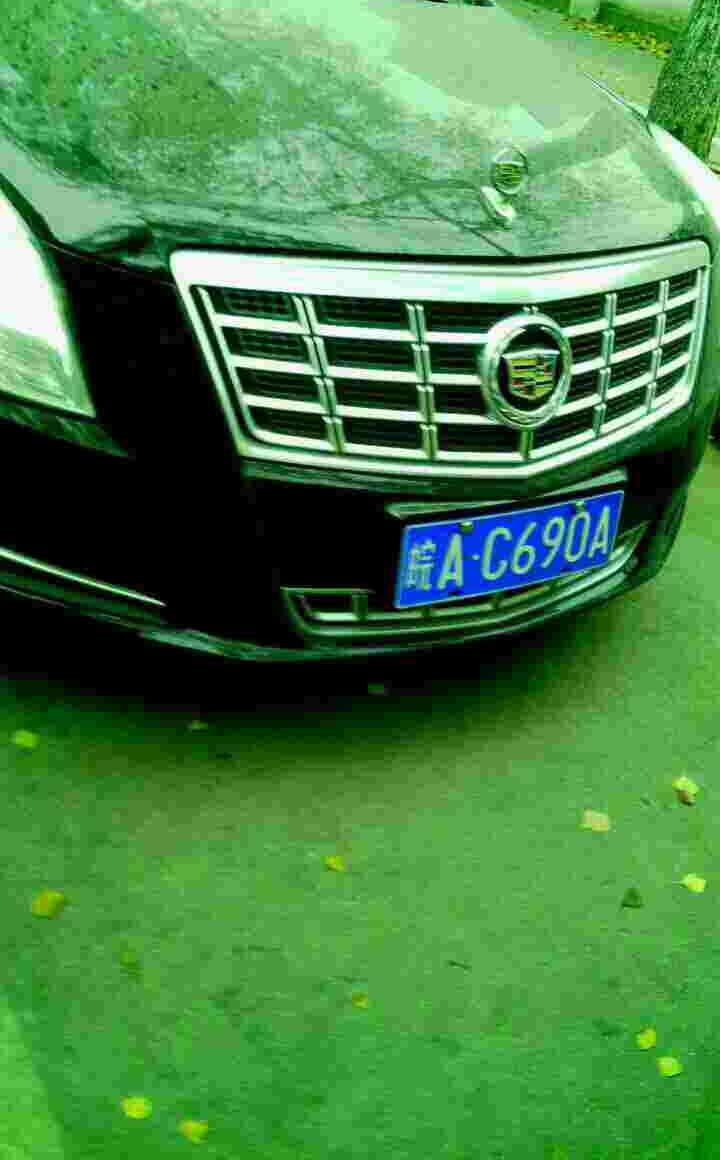license_plate: (399, 487, 613, 613)
